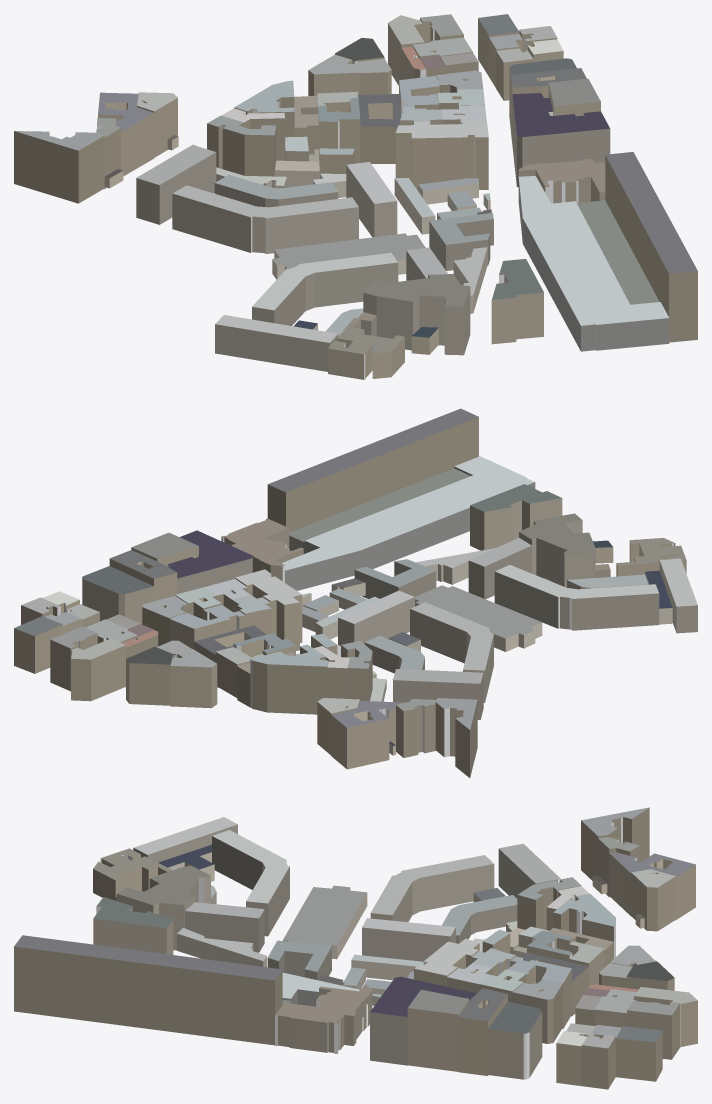
The picture shows the model from 3 angles, top to bottom: view 1: azimuth 30°, elevation 25°; view 2: azimuth 150°, elevation 25°; view 3: azimuth 270°, elevation 25°; orthographic projection. The views are drawn at different scales.
Visible parts, largest first — view 1: tuile; view 2: tuile; view 3: tuile.
Part boxes in pixels (left/top/right/bottom): tuile: left=14, top=14, right=697, bottom=379; tuile: left=14, top=408, right=697, bottom=777; tuile: left=14, top=807, right=697, bottom=1089.
Size of the model in its own units: 270 by 38.47 by 315.
